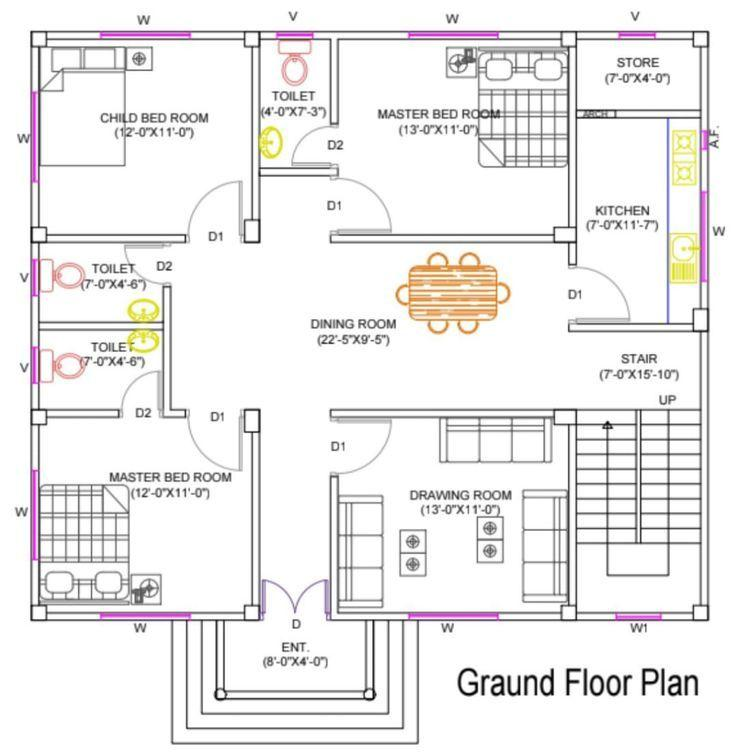Blueprint: (24, 21, 717, 631)
wall: (696, 328, 711, 607), (329, 405, 557, 420), (327, 233, 558, 244), (565, 420, 578, 609), (567, 44, 579, 230), (250, 429, 262, 609), (44, 232, 189, 246), (250, 44, 261, 223), (327, 473, 340, 624), (37, 319, 166, 334), (566, 321, 697, 335), (160, 284, 172, 420), (310, 28, 413, 42), (613, 106, 702, 122), (328, 35, 341, 126), (698, 42, 711, 132), (257, 165, 343, 178), (44, 406, 121, 420), (327, 610, 412, 622), (495, 609, 565, 622), (44, 29, 104, 42), (44, 609, 104, 622), (494, 30, 564, 41), (27, 178, 41, 231), (29, 293, 42, 350), (188, 29, 248, 41), (574, 29, 624, 43), (189, 610, 247, 622), (28, 44, 41, 94), (575, 609, 619, 623), (29, 557, 41, 608), (699, 147, 711, 194), (30, 422, 41, 472), (653, 29, 695, 42), (658, 609, 695, 622), (28, 381, 42, 413), (565, 238, 578, 269), (699, 279, 711, 312), (27, 239, 41, 262), (167, 407, 190, 419), (258, 30, 279, 40)
